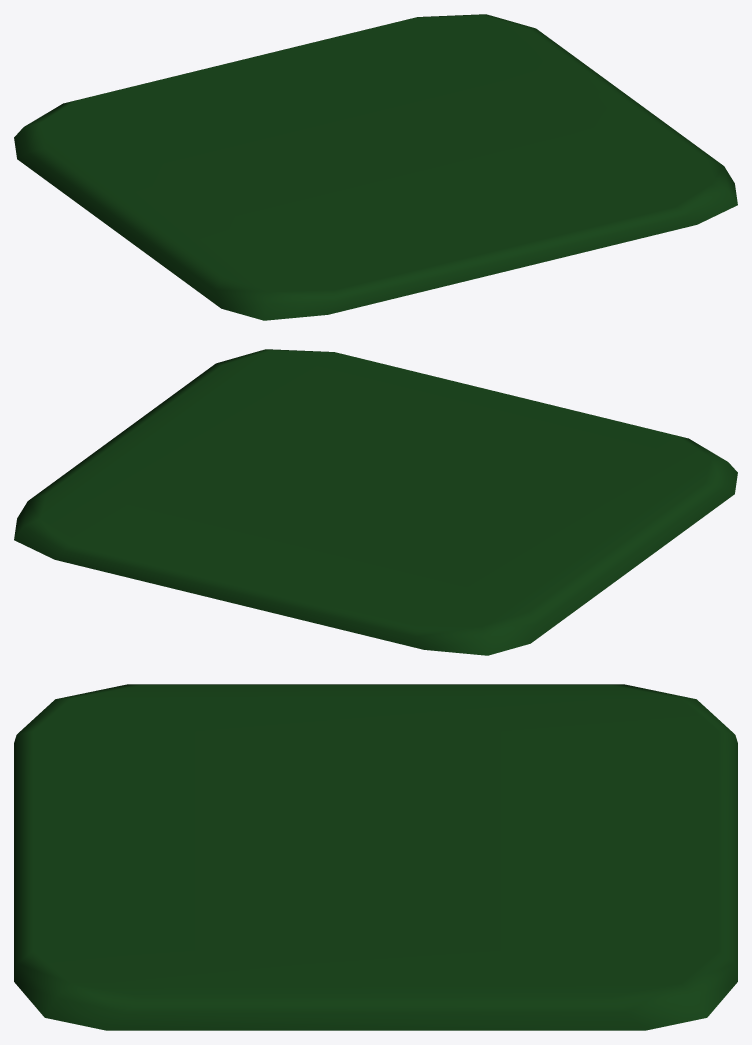
The model's file is LauBoxB1Cap.FBX.
The picture shows the model from 3 angles, top to bottom: view 1: azimuth 30°, elevation 25°; view 2: azimuth 150°, elevation 25°; view 3: azimuth 270°, elevation 25°; orthographic projection. The views are drawn at different scales.
Parts seen in each view (by area): view 1: LauBoxB1Cap_LOD0; view 2: LauBoxB1Cap_LOD0; view 3: LauBoxB1Cap_LOD0.
Boxes of the visible parts, bbox=[...] form: LauBoxB1Cap_LOD0: bbox=[14, 14, 737, 320]; LauBoxB1Cap_LOD0: bbox=[14, 349, 737, 655]; LauBoxB1Cap_LOD0: bbox=[14, 684, 737, 1030].
Bounding box in the file's own units: 43.94 × 40.52 × 1.46.
